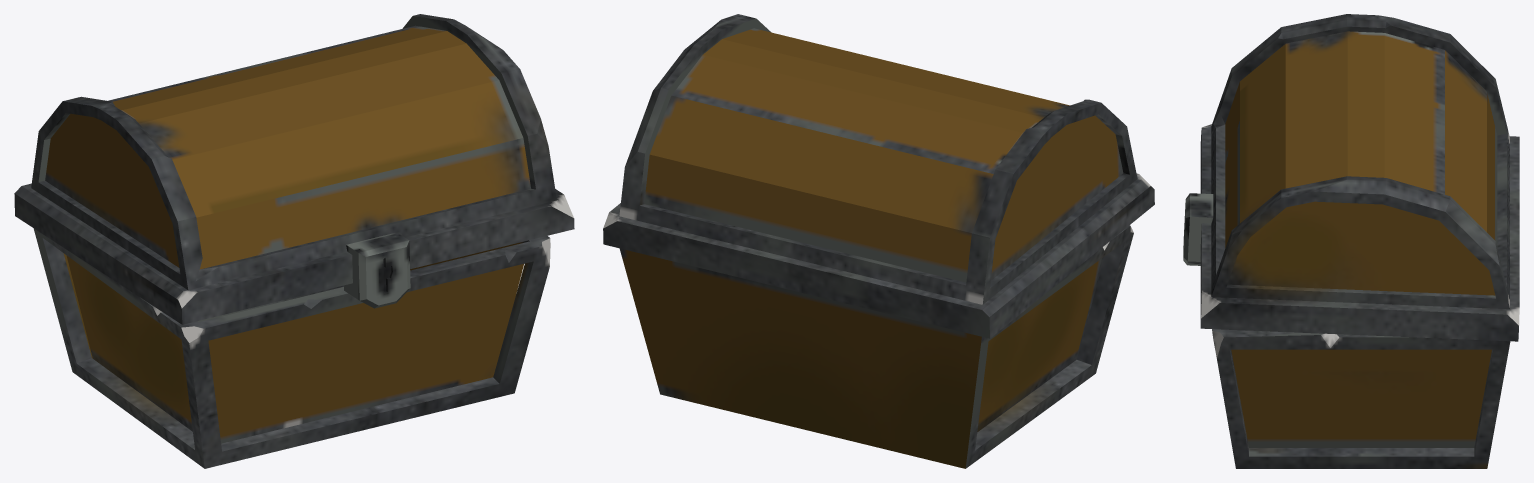
Rendered from treasure.glb.
The picture shows the model from 3 angles, left to right: view 1: azimuth 30°, elevation 25°; view 2: azimuth 150°, elevation 25°; view 3: azimuth 270°, elevation 25°; orthographic projection. The views are drawn at different scales.
Visible parts, largest first — view 1: treasure; view 2: treasure; view 3: treasure.
Part boxes in pixels (x1,y1,x2,y2): treasure: [14, 14, 574, 468]; treasure: [603, 14, 1154, 468]; treasure: [1183, 14, 1519, 468].
Bounding box in the file's own units: 0.7887 × 0.602 × 0.6165.
1 material, 1 textured.
